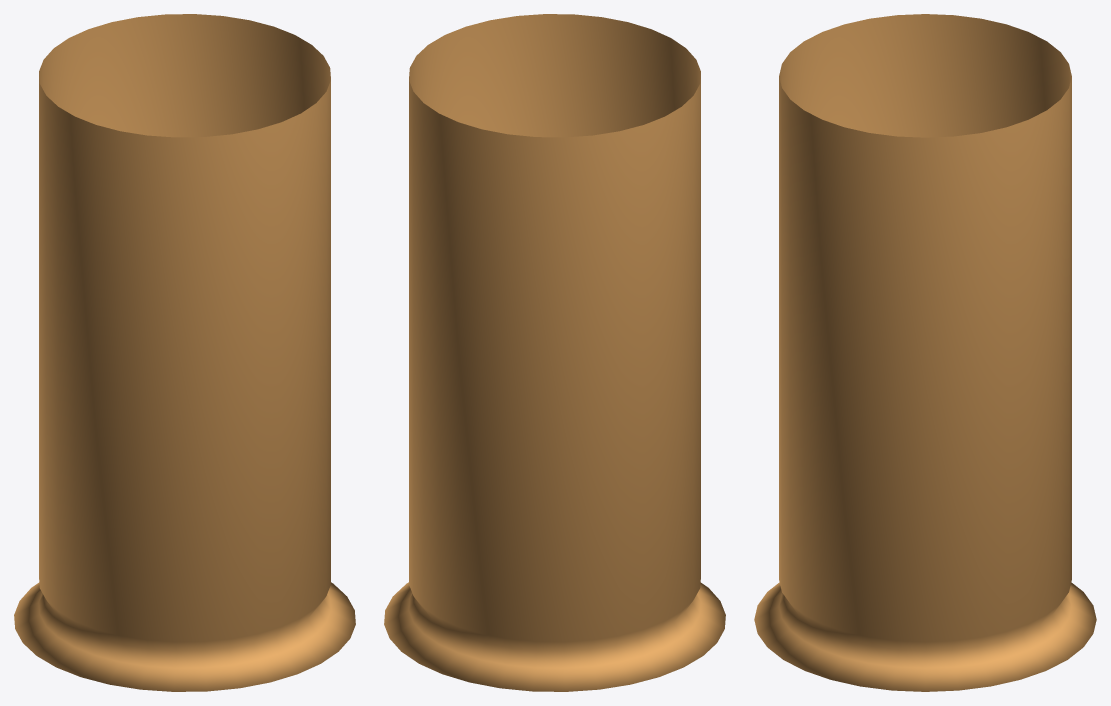
Rendered from 9mm casing(1).fbx.
The picture shows the model from 3 angles, left to right: view 1: azimuth 30°, elevation 25°; view 2: azimuth 150°, elevation 25°; view 3: azimuth 270°, elevation 25°; orthographic projection.
Visible parts, largest first — view 1: Cylinder; view 2: Cylinder; view 3: Cylinder.
Boxes of the visible parts, x1,y1,x2,y2 form: Cylinder: (14,14,355,691); Cylinder: (384,14,725,691); Cylinder: (754,14,1096,691).
Bounding box in the file's own units: 234 × 410 × 234.
